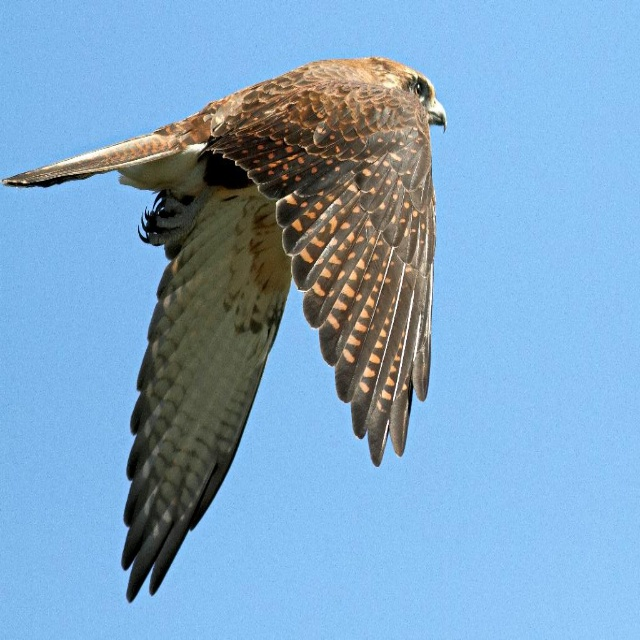Eagle: (0, 51, 452, 606)
